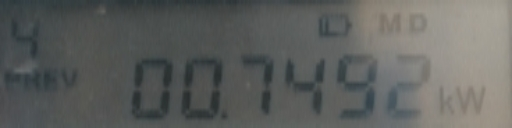0: (132, 49, 175, 128), (180, 47, 223, 126)
2: (388, 45, 431, 124)
4: (284, 43, 327, 122)
7: (236, 45, 279, 124)
9: (334, 43, 377, 122)
d: (219, 107, 233, 122)
